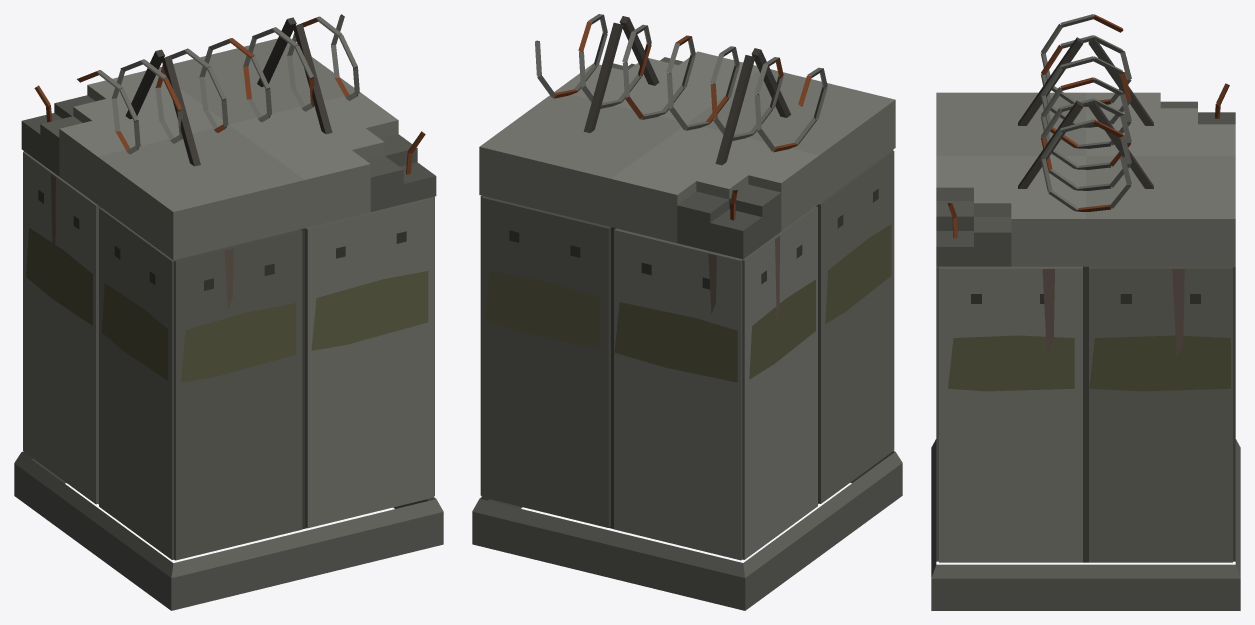
The model's file is parede_concreto_1.glb.
The picture shows the model from 3 angles, left to right: view 1: azimuth 30°, elevation 25°; view 2: azimuth 150°, elevation 25°; view 3: azimuth 270°, elevation 25°; orthographic projection.
Visible parts, largest first — view 1: parede_concreto_1.001; view 2: parede_concreto_1.001; view 3: parede_concreto_1.001.
Boxes of the visible parts, x1,y1,x2,y2 form: parede_concreto_1.001: (14, 14, 443, 610); parede_concreto_1.001: (472, 14, 902, 610); parede_concreto_1.001: (931, 14, 1240, 610).
Size of the model in its own units: 1.66 by 2.81 by 1.66.
